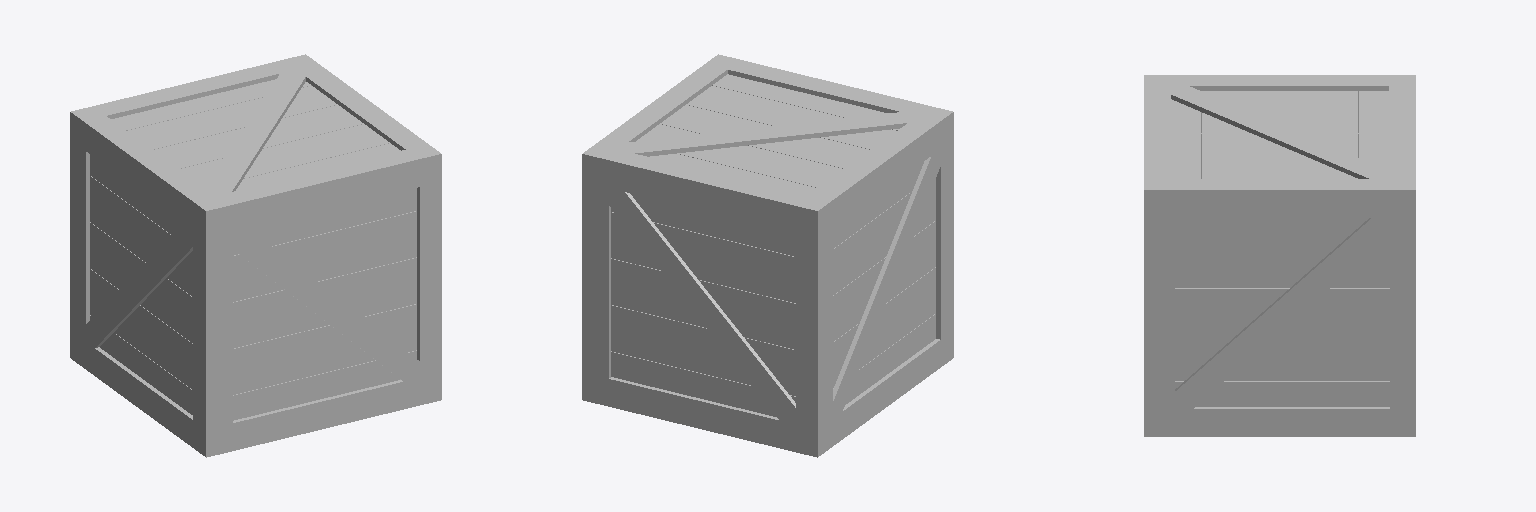
File: Crate-04.obj
3 renders of one model, left to right at view 1: azimuth 30°, elevation 25°; view 2: azimuth 150°, elevation 25°; view 3: azimuth 270°, elevation 25°, orthographic.
Parts seen in each view (by area): view 1: Crate_04_case, Crate_04_cover; view 2: Crate_04_case, Crate_04_cover; view 3: Crate_04_case, Crate_04_cover.
Boxes of the visible parts, <box> form: Crate_04_case: <box>70,117,441,457</box>; Crate_04_cover: <box>70,54,441,215</box>; Crate_04_case: <box>582,117,953,457</box>; Crate_04_cover: <box>582,54,953,215</box>; Crate_04_case: <box>1144,91,1415,436</box>; Crate_04_cover: <box>1144,75,1415,194</box>.
Size of the model in its own units: 0.53 by 0.53 by 0.53.